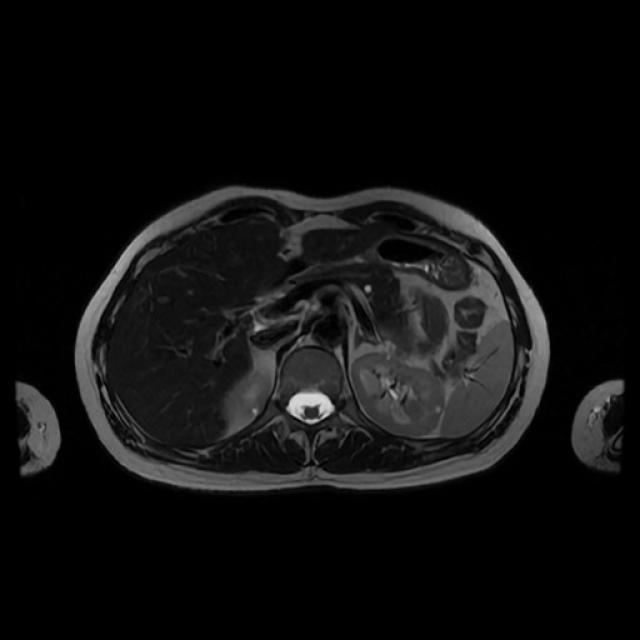sag: (237, 366, 270, 416)
sol: (356, 352, 447, 435)
